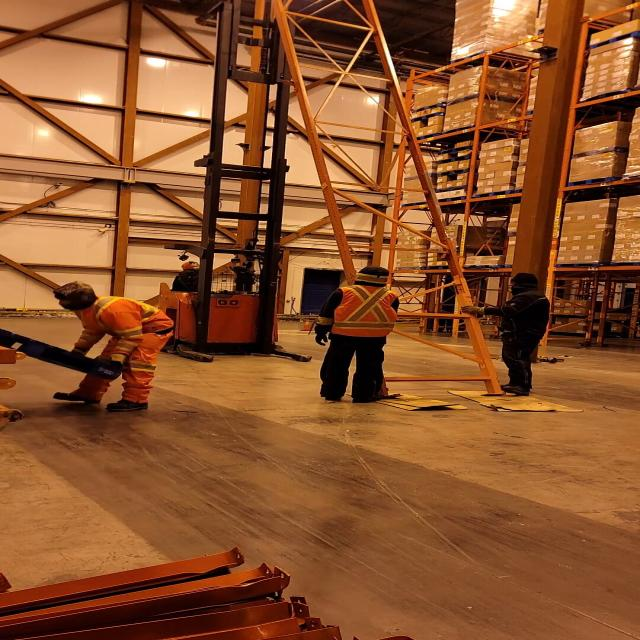forklift: (149, 154, 315, 364)
human: (41, 280, 176, 414), (309, 263, 407, 407), (458, 270, 554, 400), (162, 258, 220, 290)
objectofinterest: (260, 6, 528, 399), (0, 323, 127, 377), (443, 387, 593, 415), (347, 386, 471, 411)
